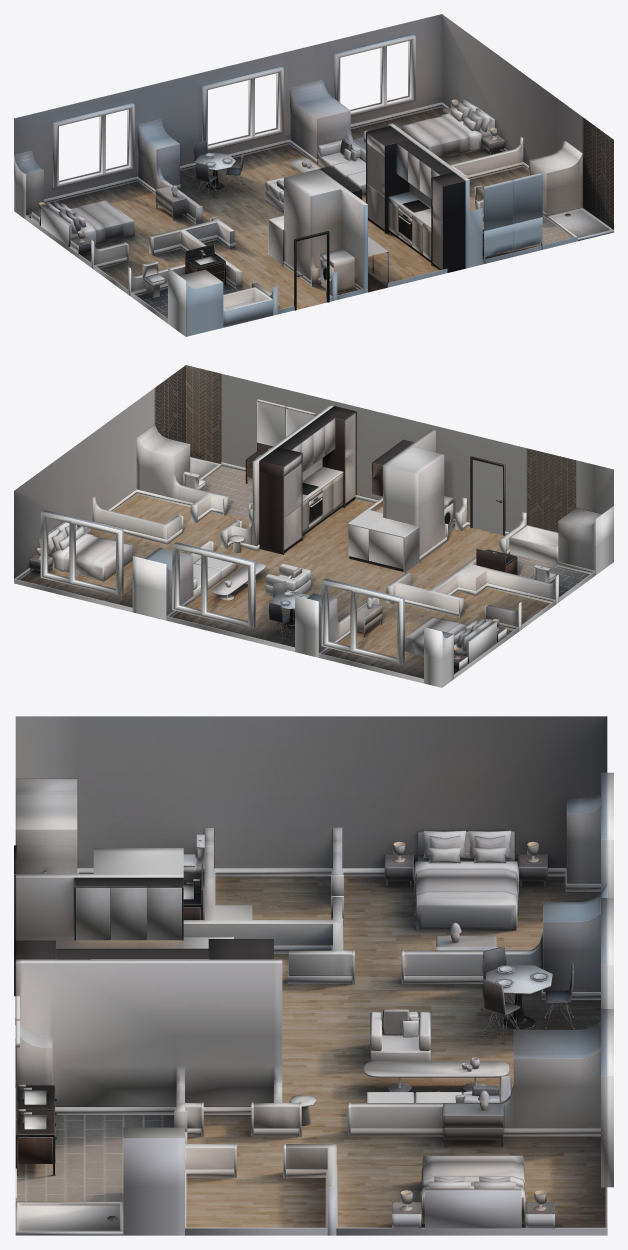
Rendered from house.glb.
3 renders of one model, top to bottom at view 1: azimuth 30°, elevation 25°; view 2: azimuth 150°, elevation 25°; view 3: azimuth 270°, elevation 25°, orthographic. The views are drawn at different scales.
Visible parts, largest first — view 1: C18P; view 2: C18P; view 3: C18P.
Boxes of the visible parts, x1,y1,x2,y2 form: C18P: (14,14,613,336); C18P: (14,365,613,687); C18P: (14,716,613,1235).
Bounding box in the file's own units: 13.25 × 2.75 × 9.34.
1 material, 1 textured.
